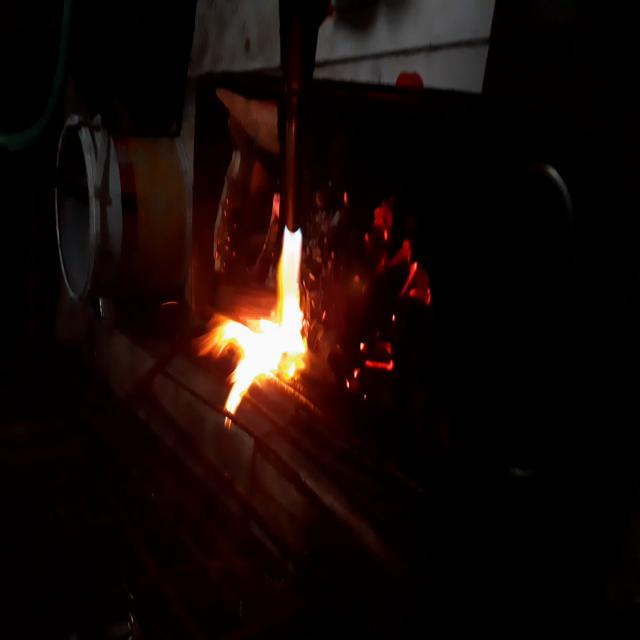Fire: (335, 169, 439, 412), (198, 218, 312, 437)
